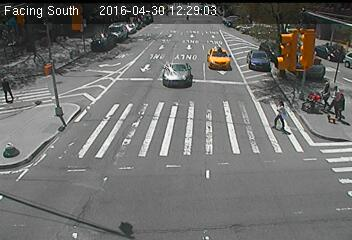neg: (154, 53, 205, 121), (77, 190, 107, 230), (139, 148, 166, 184), (312, 38, 333, 66), (88, 106, 106, 130)
